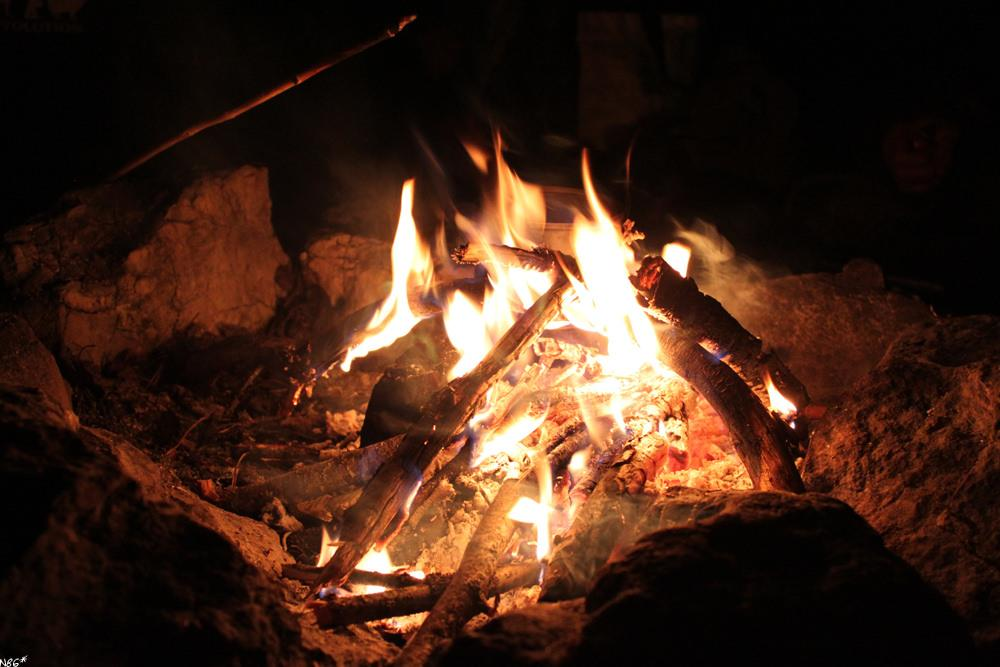fire: (575, 222, 630, 297), (612, 317, 663, 373), (448, 300, 493, 355)
